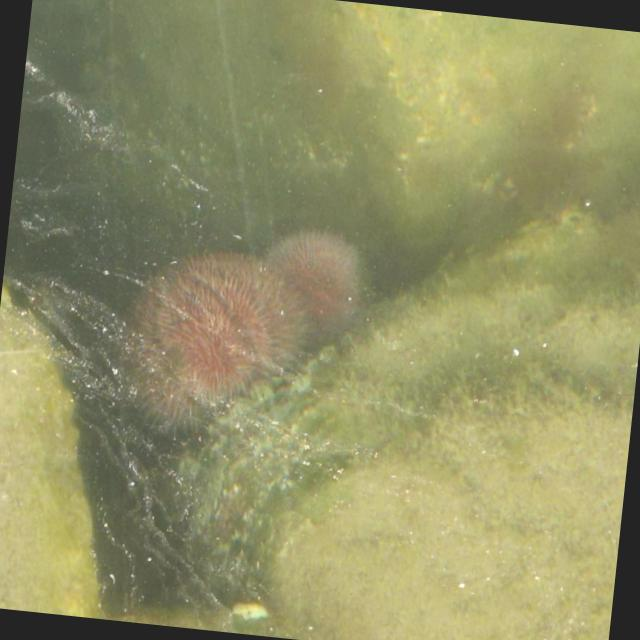Deniz Kestanesi: (110, 239, 319, 455), (251, 227, 371, 356)
